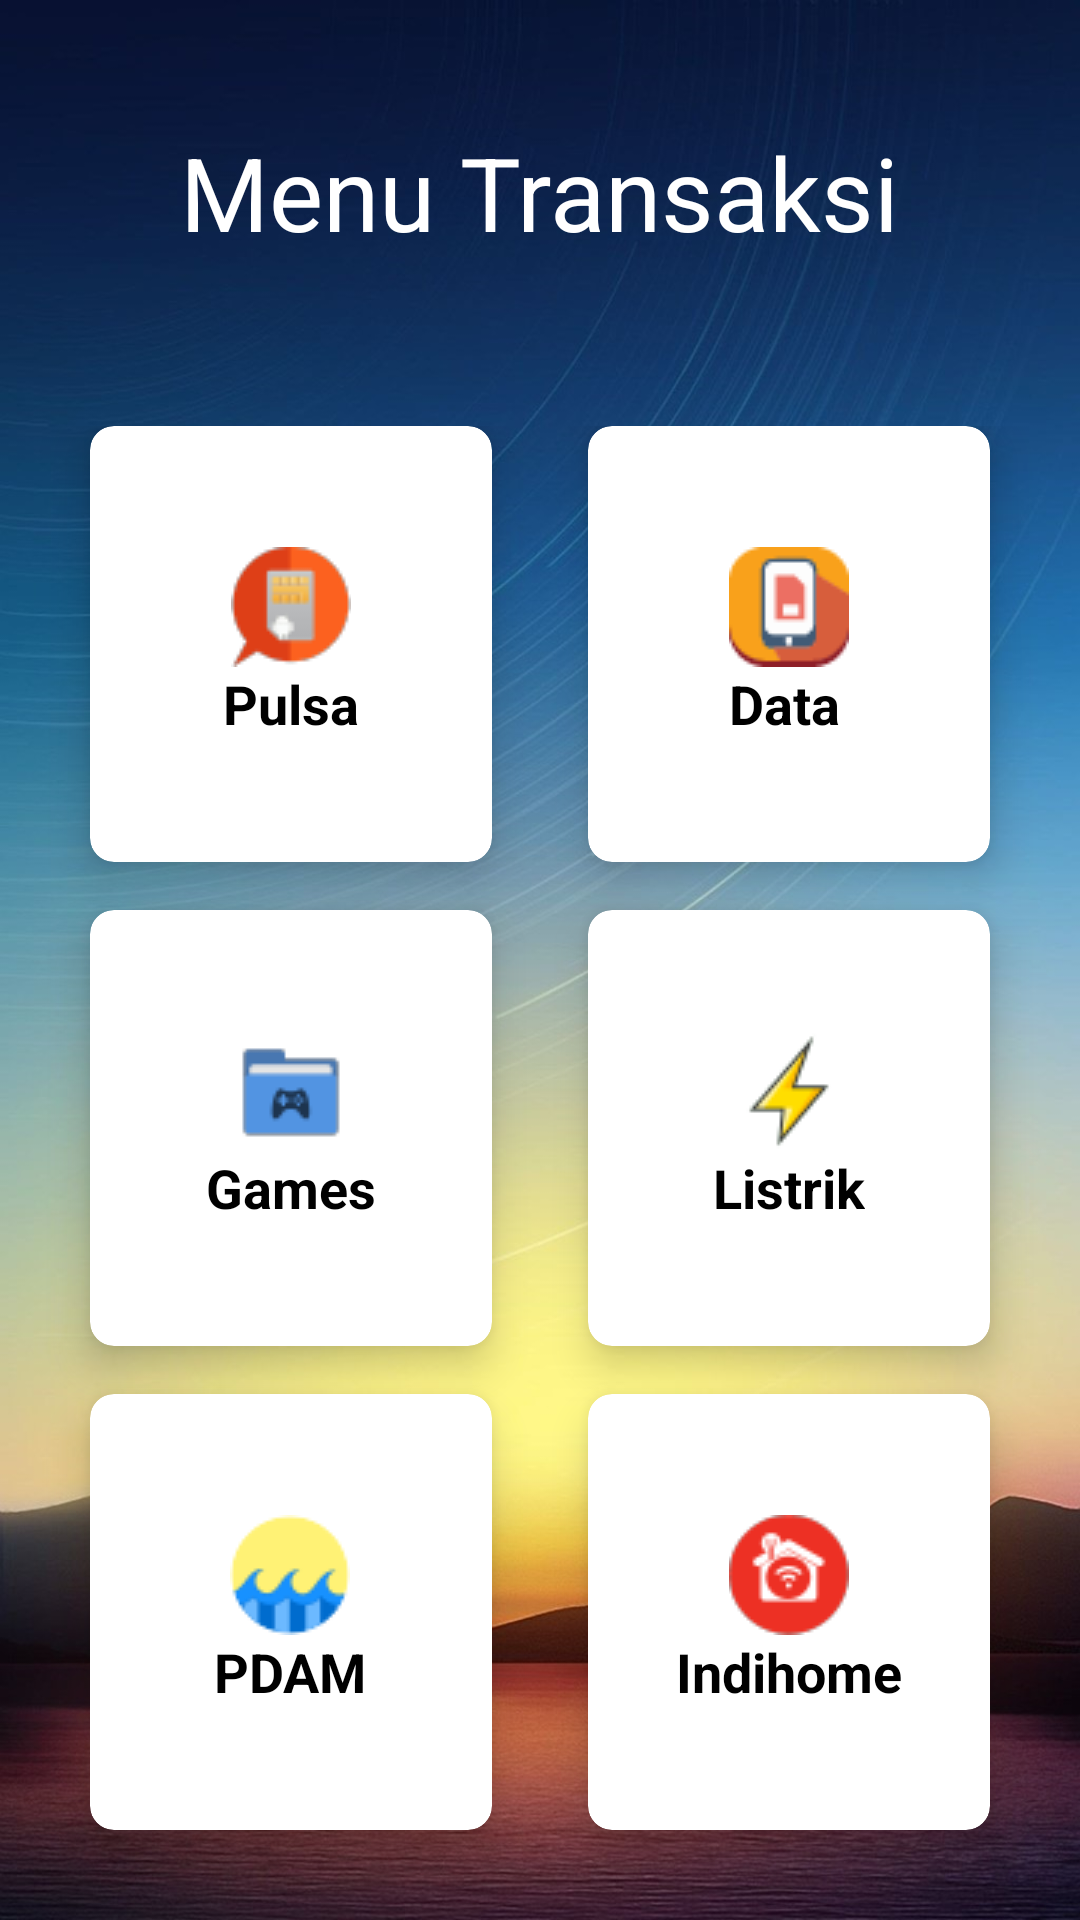

Named icons in this screenshot (1080×1920) and their centers, (x=x, y=y):
water: (x=290, y=1575)
